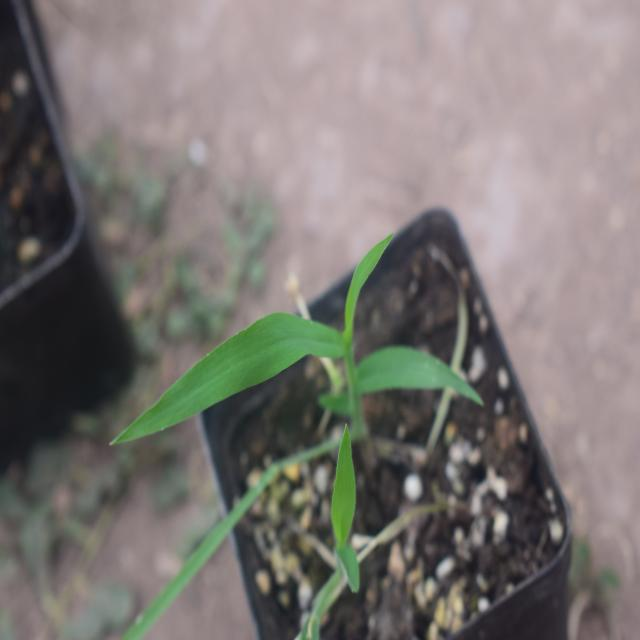crabgrass: (133, 239, 441, 495)
